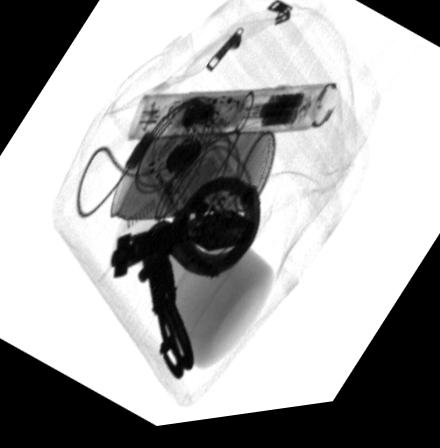Baton: (125, 89, 336, 143)
HandCuffs: (112, 179, 260, 386)
Lighter: (182, 213, 255, 259)
